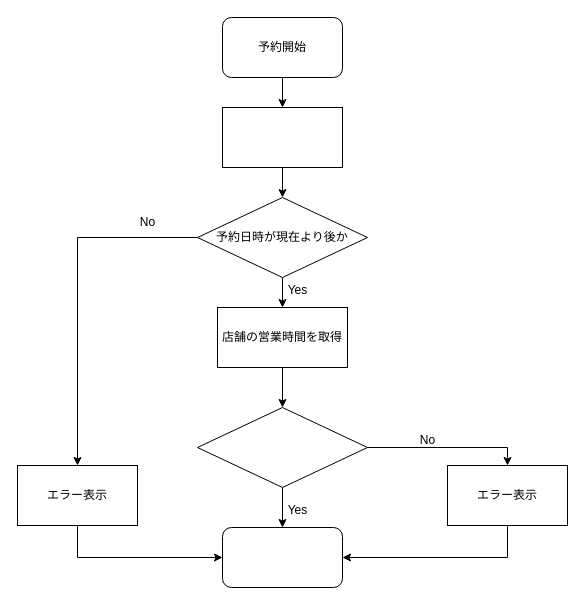
Image size: 585x605. Some labels were removed from this diagram. The shapes that lost their labels are listed below. From the top down, each one's centre as x and y in pixels, then its label:
At pixel 282 137: "予約情報を取得".
At pixel 282 447: "予約日時が営業時間内か".
At pixel 282 557: "予約終了".
